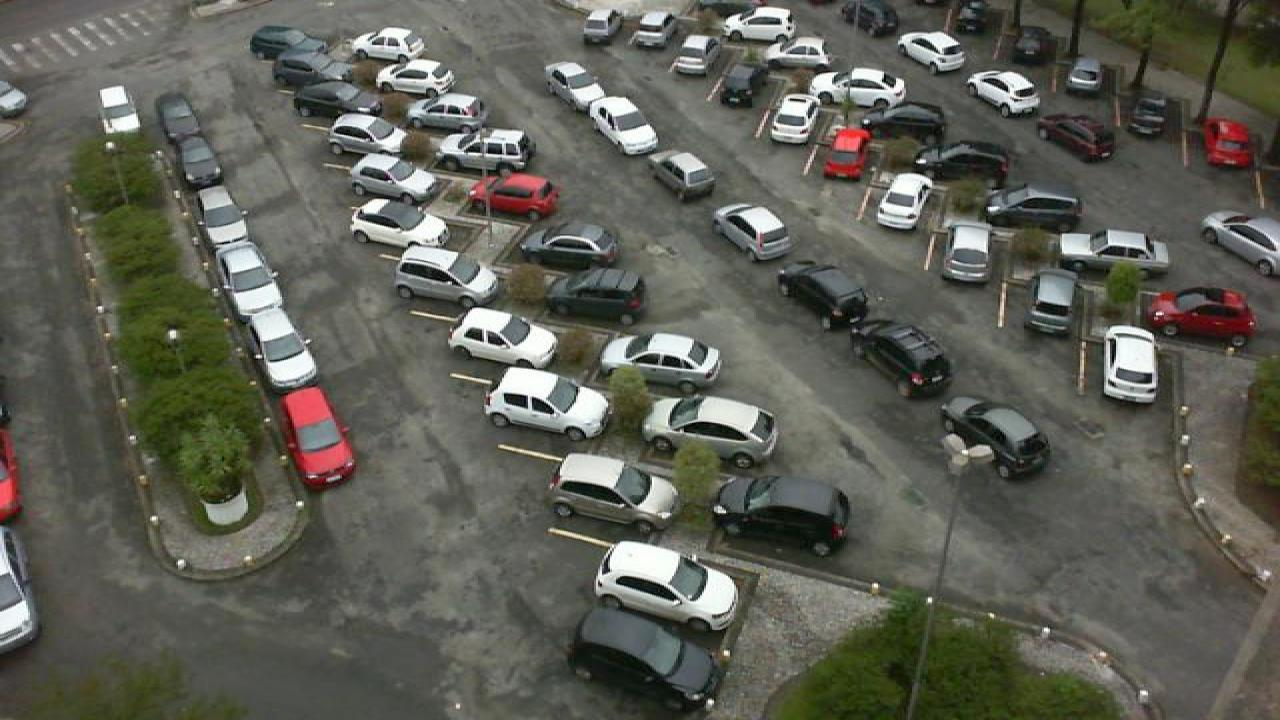Car: (566, 606, 726, 711), (592, 540, 742, 632), (710, 474, 852, 556), (642, 393, 780, 469), (548, 452, 680, 531), (482, 366, 614, 441), (940, 396, 1054, 482), (852, 317, 956, 397), (598, 333, 722, 396), (280, 385, 354, 489), (448, 306, 560, 372), (774, 261, 874, 333), (390, 244, 500, 307), (1144, 286, 1256, 344), (346, 196, 452, 253), (546, 267, 648, 326), (1198, 208, 1280, 277), (1058, 226, 1172, 272), (518, 222, 618, 274), (984, 183, 1086, 233), (256, 310, 320, 388), (712, 201, 794, 260), (914, 138, 1014, 186), (584, 96, 658, 160), (346, 153, 440, 203), (1100, 325, 1160, 403), (224, 243, 288, 315), (434, 128, 534, 174), (810, 66, 910, 112), (468, 172, 558, 221), (856, 101, 950, 145), (1036, 112, 1118, 161), (324, 112, 406, 158), (1024, 272, 1082, 336), (942, 220, 1000, 284), (874, 173, 938, 231), (196, 184, 254, 246), (1200, 117, 1264, 173), (968, 69, 1042, 117), (410, 92, 490, 135), (376, 59, 460, 99), (648, 152, 718, 199), (894, 29, 968, 73), (820, 125, 876, 181), (292, 81, 372, 119), (544, 61, 606, 110), (350, 27, 428, 65), (248, 25, 330, 61), (766, 92, 820, 145), (178, 145, 230, 199), (270, 55, 350, 90), (722, 5, 796, 40), (1126, 89, 1178, 138), (762, 35, 836, 69), (94, 85, 144, 135), (716, 62, 766, 110), (838, 0, 900, 36), (1006, 24, 1056, 68), (1062, 57, 1110, 102), (672, 35, 720, 79), (580, 9, 626, 47), (162, 117, 208, 154), (154, 93, 198, 130), (636, 10, 678, 48), (948, 0, 990, 36)
